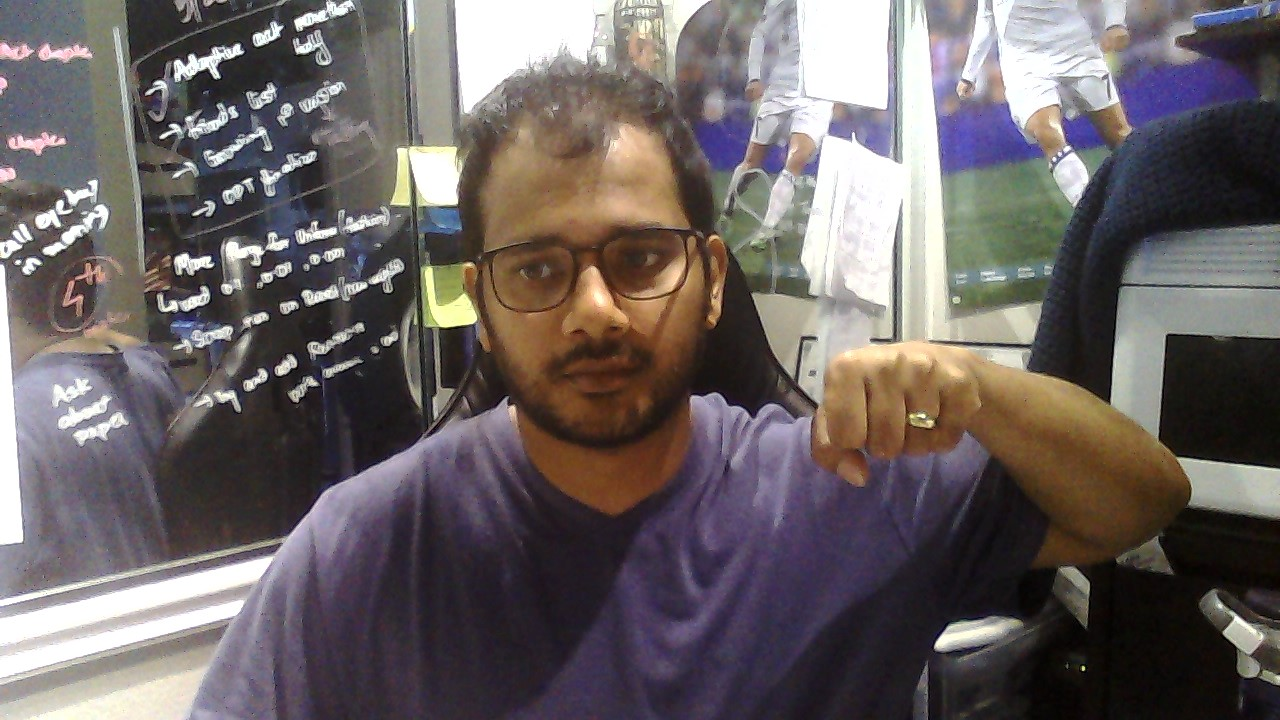Yes: (811, 339, 983, 488)
